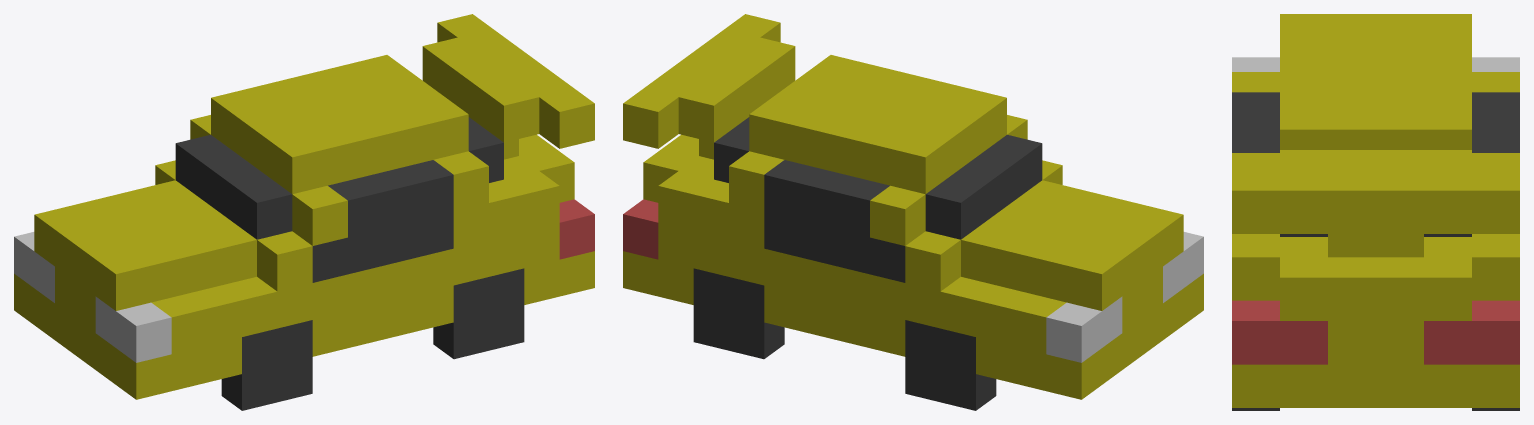
File: racer-v2-yellow.gltf
The picture shows the model from 3 angles, left to right: view 1: azimuth 30°, elevation 25°; view 2: azimuth 150°, elevation 25°; view 3: azimuth 270°, elevation 25°; orthographic projection. The views are drawn at different scales.
Parts seen in each view (by area): view 1: model, wheels; view 2: model, wheels; view 3: model, wheels.
Boxes of the visible parts, x1,y1,x2,y2 form: model: (14,14,594,399); wheels: (221,268,524,410); model: (623,14,1203,399); wheels: (693,268,996,410); model: (1232,14,1519,407); wheels: (1232,408,1519,410).
Bounding box in the file's own units: 1.3 × 0.6 × 0.6.
2 materials, 2 textured.
